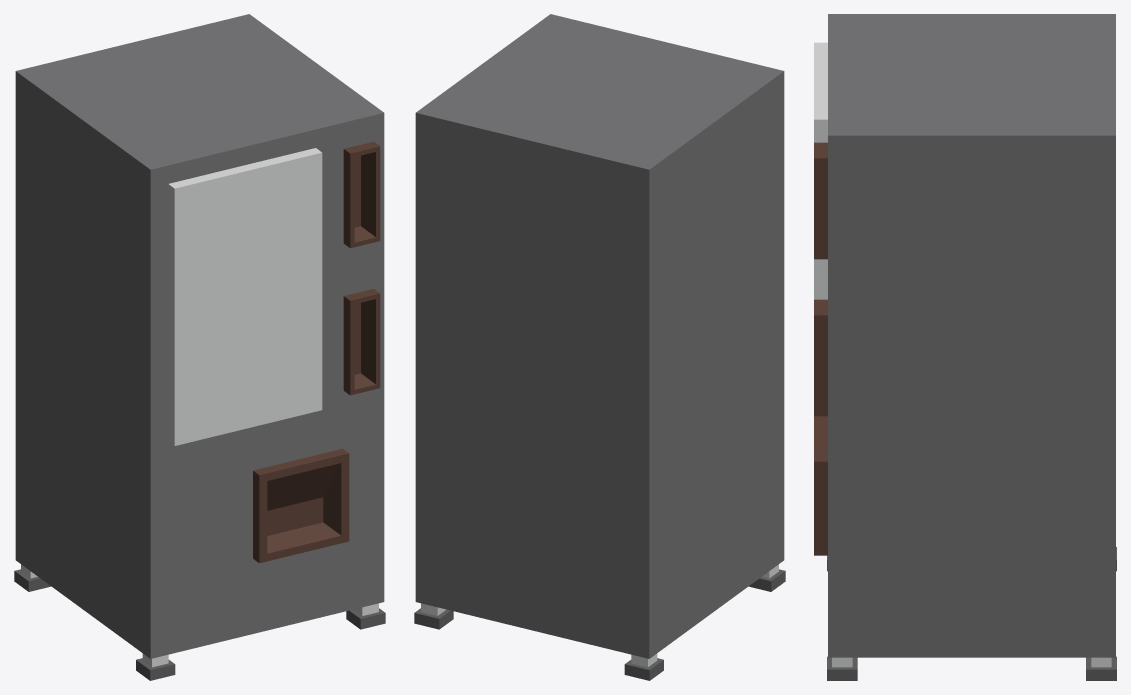
File: Fridge_0Mixed_2.fbx
The picture shows the model from 3 angles, left to right: view 1: azimuth 30°, elevation 25°; view 2: azimuth 150°, elevation 25°; view 3: azimuth 270°, elevation 25°; orthographic projection. The views are drawn at different scales.
Visible parts, largest first — view 1: Fridge_0Mixed_2; view 2: Fridge_0Mixed_2; view 3: Fridge_0Mixed_2.
Boxes of the visible parts, left/top/right/bottom form: Fridge_0Mixed_2: left=14, top=14, right=385, bottom=680; Fridge_0Mixed_2: left=414, top=14, right=785, bottom=680; Fridge_0Mixed_2: left=814, top=14, right=1116, bottom=680.
Size of the model in its own units: 151 by 313 by 158.
